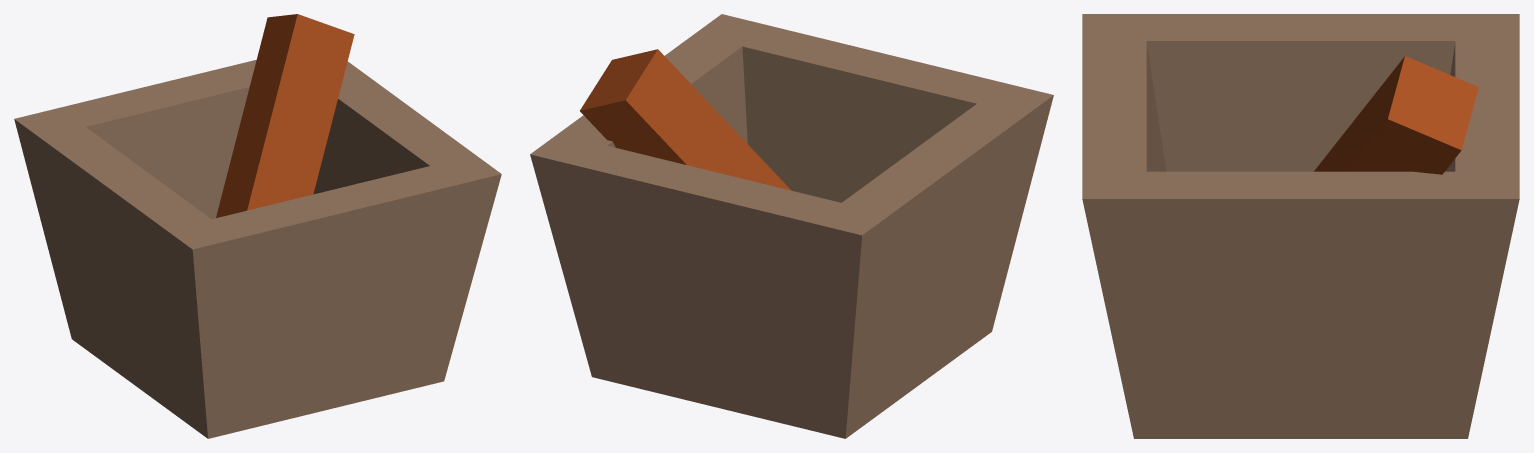
The model's file is Alchemist Tool 01.FBX.
3 renders of one model, left to right at view 1: azimuth 30°, elevation 25°; view 2: azimuth 150°, elevation 25°; view 3: azimuth 270°, elevation 25°, orthographic. The views are drawn at different scales.
Visible parts, largest first — view 1: Alchemist Tool 01; view 2: Alchemist Tool 01; view 3: Alchemist Tool 01.
Boxes of the visible parts, <box> form: Alchemist Tool 01: <box>14,14,501,438</box>; Alchemist Tool 01: <box>530,14,1053,438</box>; Alchemist Tool 01: <box>1082,14,1519,438</box>.
Bounding box in the file's own units: 48.82 × 44.54 × 48.82.
